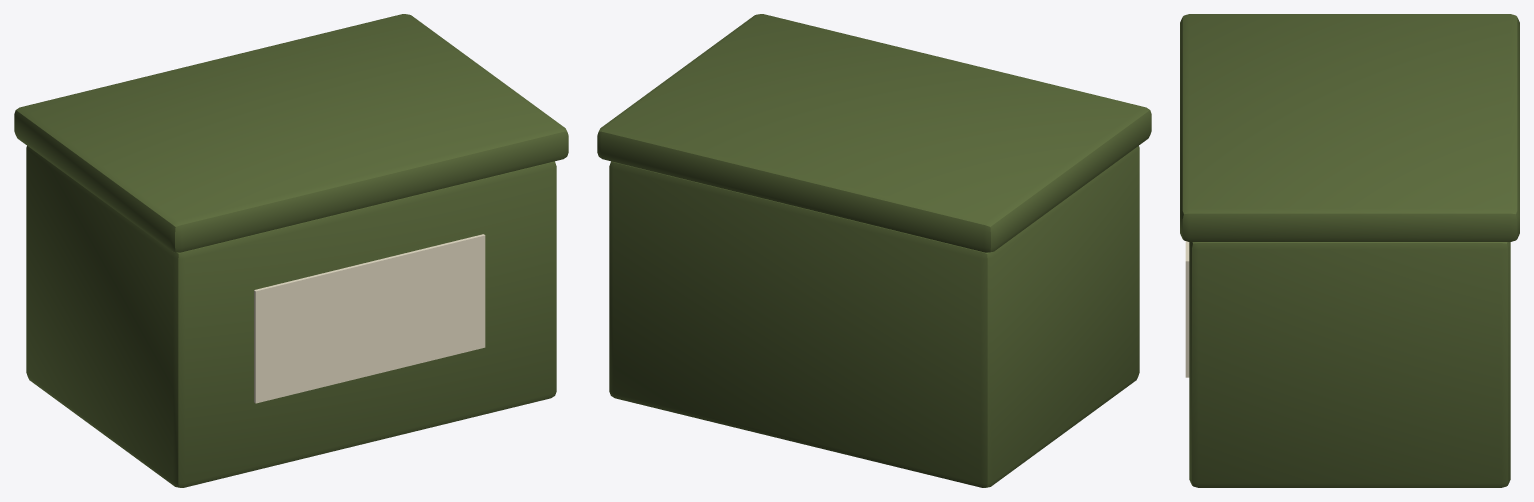
The picture shows the model from 3 angles, left to right: view 1: azimuth 30°, elevation 25°; view 2: azimuth 150°, elevation 25°; view 3: azimuth 270°, elevation 25°; orthographic projection. The views are drawn at different scales.
Visible parts, largest first — view 1: y2k, lid; view 2: y2k, lid; view 3: y2k, lid.
Boxes of the visible parts, box(x1,y1,x2,y2) form: y2k: box(26, 146, 556, 487); lid: box(14, 14, 568, 252); y2k: box(609, 146, 1139, 487); lid: box(597, 14, 1151, 252); y2k: box(1185, 241, 1510, 487); lid: box(1180, 14, 1519, 241).
Bounding box in the file's own units: 0.52 × 0.34 × 0.37.
